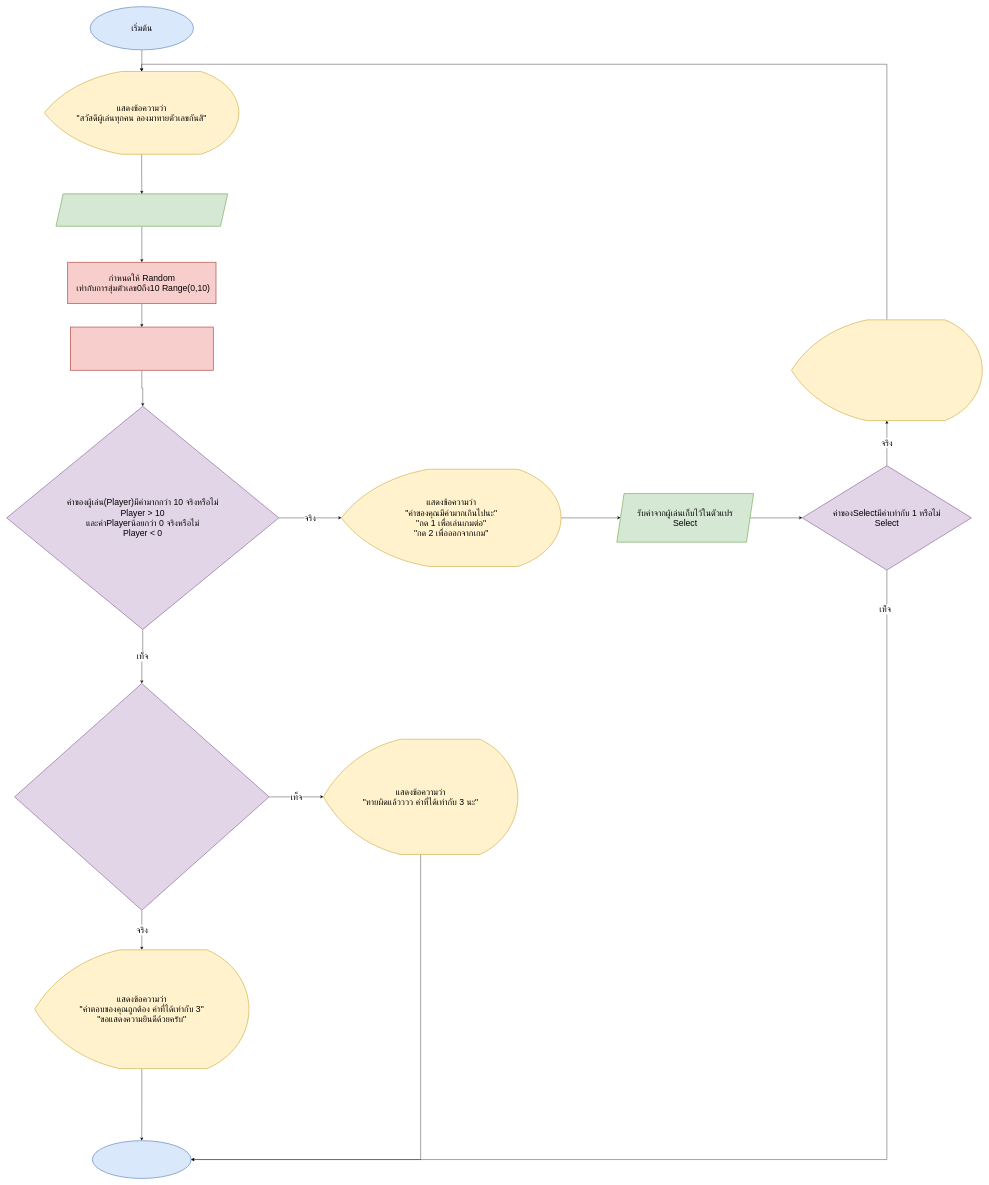
Some shapes in this 989 by 1185 pixel diagram are drawn without their labels. The shapes that lost their labels are listed below. From the top down, each one's centre as x and y in pixels, then its label:
[141,209]: รับค่าตัวเลขจากผู้เล่นให้อยู่ในตัวแปร Player
[141,348]: Random สุ่มได้ตัวเลข 3
[886,370]: แสดงข้อความว่า "มาลองใหม่อีกครั้งนะ"
[141,796]: ค่าของผู้เล่น(Player)มีค่าเท่ากับค่าสุ่ม(Random) จริงหรือไม่ Player == Random
[141,1159]: สิ้นสุดการทำงาน
